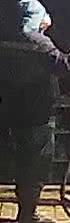vest: (0, 31, 56, 132)
